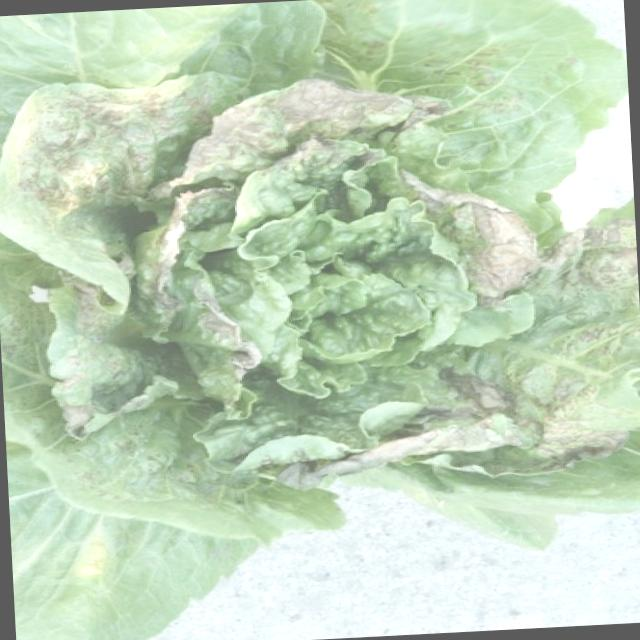Bacterial: (477, 224, 640, 459), (188, 72, 442, 188), (15, 90, 170, 200)
